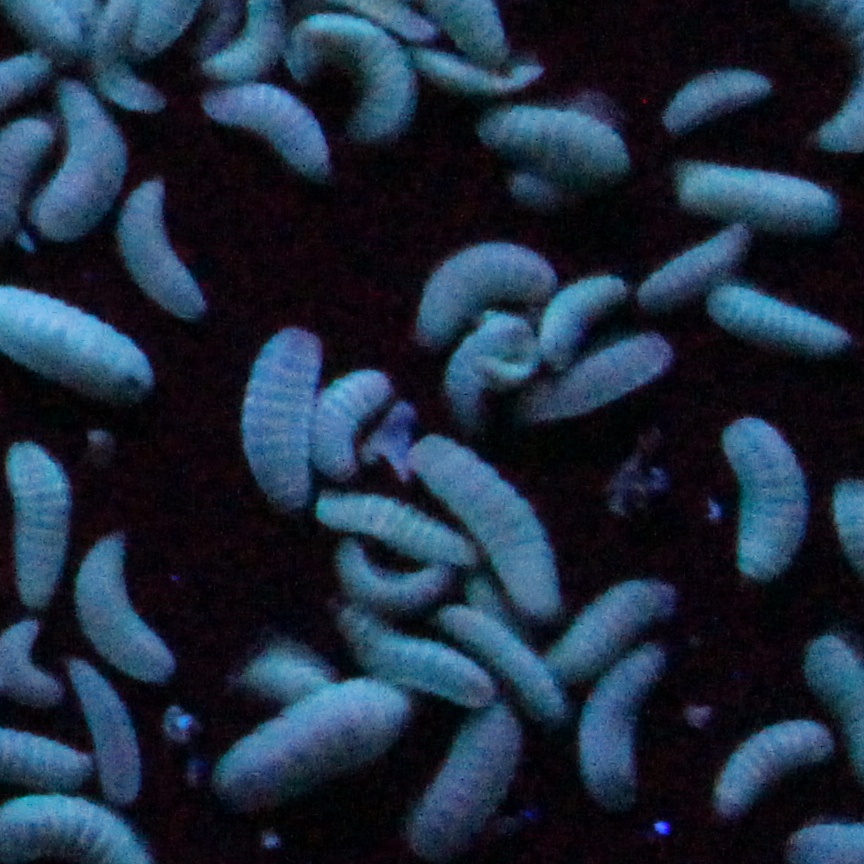larve: (417, 434, 564, 615), (209, 689, 409, 809), (274, 15, 421, 142), (71, 534, 183, 680), (241, 320, 324, 515), (441, 601, 572, 723), (719, 420, 810, 590), (421, 242, 557, 351), (424, 696, 515, 856), (671, 155, 840, 238), (36, 80, 121, 244), (588, 646, 675, 803), (479, 103, 640, 187), (122, 172, 205, 327), (2, 442, 71, 611), (533, 335, 672, 417), (209, 87, 334, 178), (707, 722, 829, 815), (439, 316, 529, 419), (636, 225, 750, 306), (715, 287, 852, 354), (543, 270, 622, 362), (657, 72, 769, 134)
